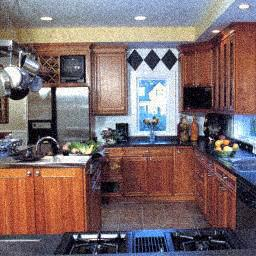Electrodomestico: (60, 225, 244, 254), (236, 178, 255, 228)
Lavaplatos: (28, 136, 91, 173)
